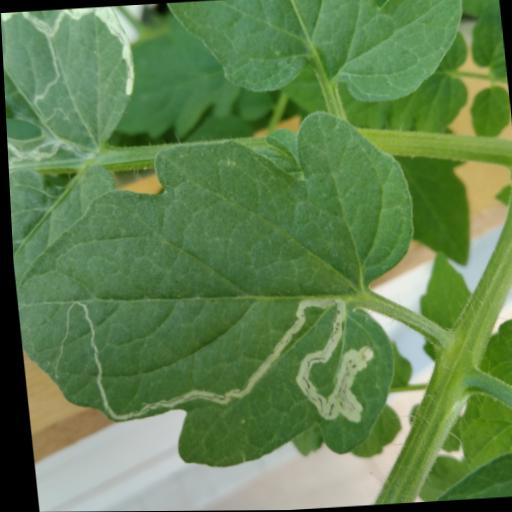Leaf_Miner: (4, 105, 437, 481), (0, 4, 157, 150)
